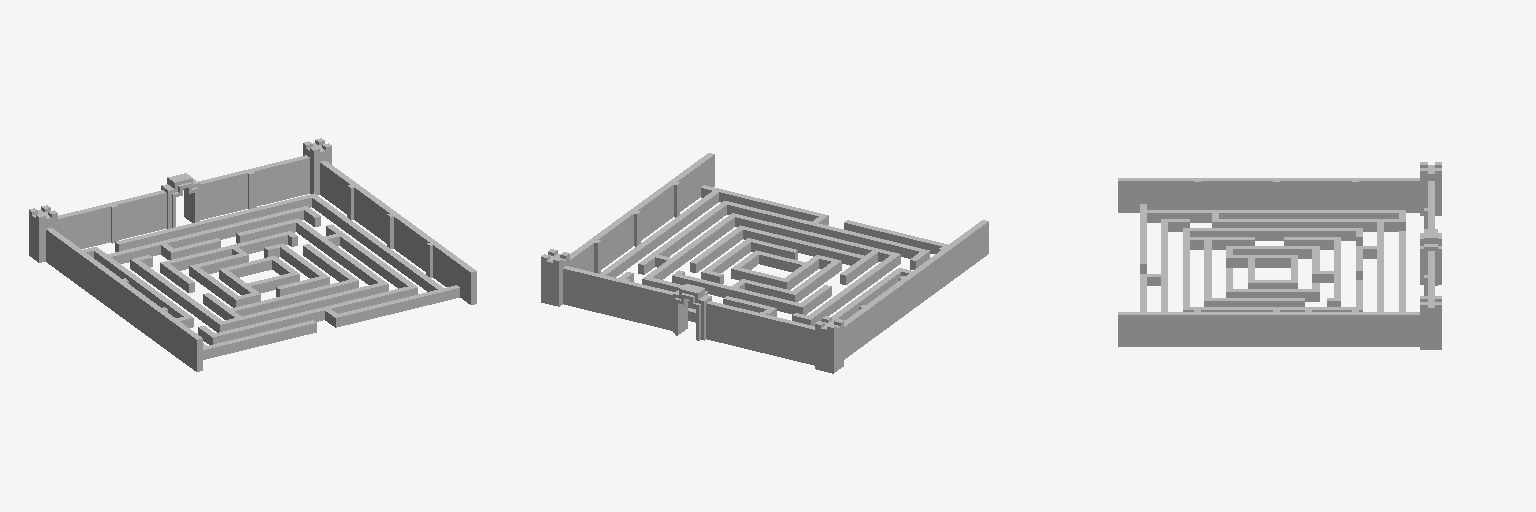
Rendered from 01_maze_2X.obj.
3 renders of one model, left to right at view 1: azimuth 30°, elevation 25°; view 2: azimuth 150°, elevation 25°; view 3: azimuth 270°, elevation 25°, orthographic.
Size of the model in its own units: 94 by 14 by 90.